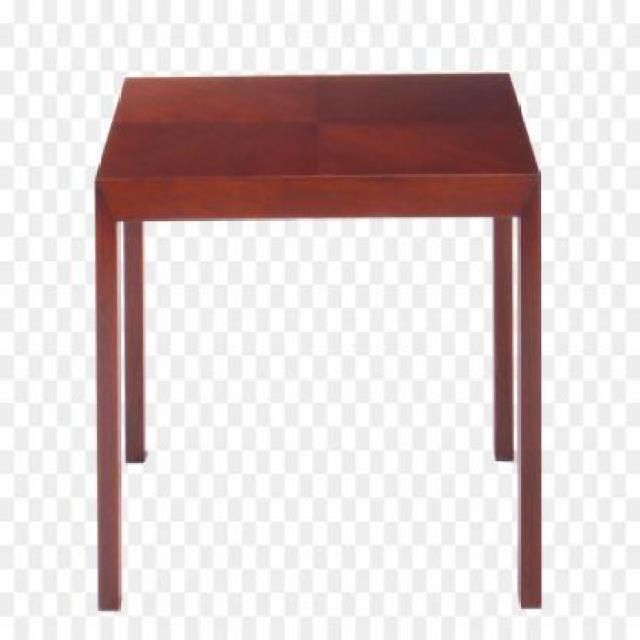table: (92, 76, 542, 610)
